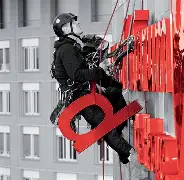safety belt: (41, 47, 108, 93)
